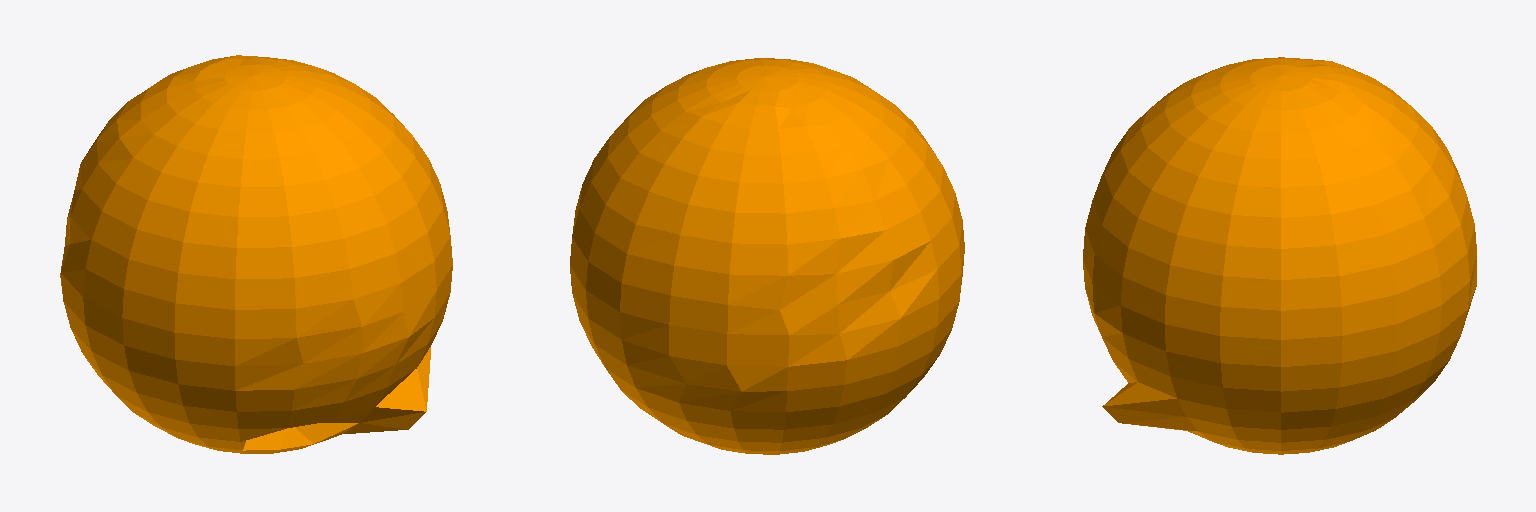
The model's file is orange.obj.
The picture shows the model from 3 angles: view 1: azimuth 30°, elevation 25°; view 2: azimuth 150°, elevation 25°; view 3: azimuth 270°, elevation 25°; orthographic projection.
Visible parts, largest first — view 1: pSphere1; view 2: pSphere1; view 3: pSphere1.
Boxes of the visible parts, <box> form: pSphere1: <box>60,55,452,453</box>; pSphere1: <box>570,58,964,454</box>; pSphere1: <box>1083,57,1476,454</box>.
Bounding box in the file's own units: 8.8 × 8.8 × 8.74.